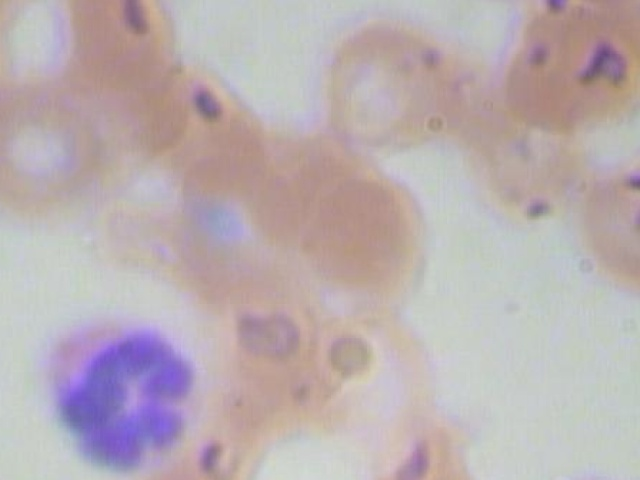RBC: (316, 11, 456, 157), (499, 0, 640, 135), (299, 170, 433, 312), (0, 72, 118, 223), (41, 0, 186, 106), (563, 148, 640, 293), (364, 409, 492, 480)
WBC: (27, 301, 211, 476)
